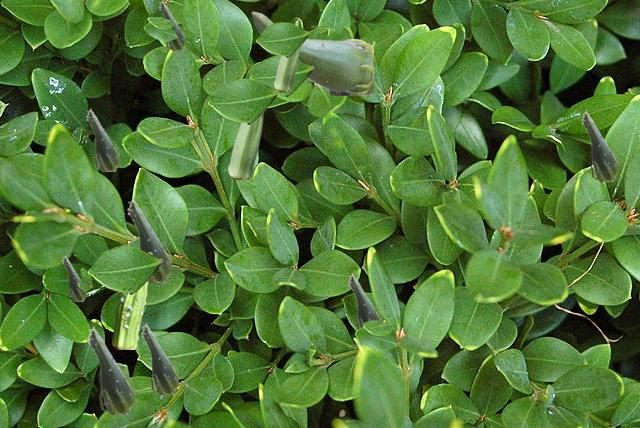okra: (251, 11, 372, 94), (87, 326, 133, 413), (112, 252, 151, 348), (127, 198, 170, 281), (141, 323, 177, 393), (581, 110, 617, 180), (228, 115, 262, 178), (86, 108, 118, 170), (348, 273, 380, 328), (274, 20, 299, 90), (159, 0, 184, 49), (62, 255, 85, 300)
